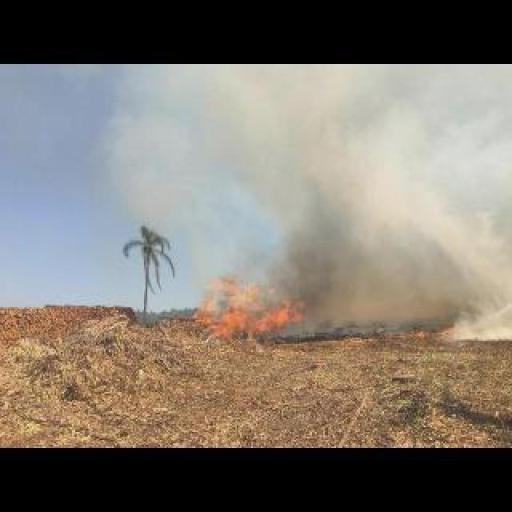smoke: (272, 182, 352, 308), (195, 278, 304, 340)
